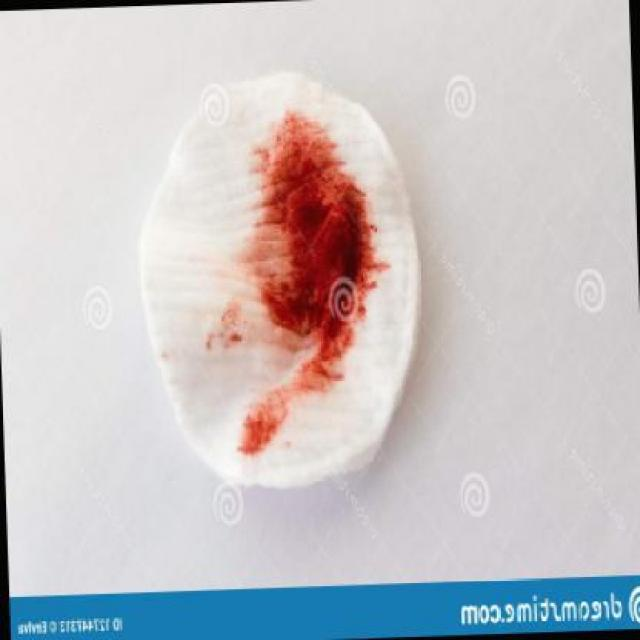wound: (235, 126, 388, 433)
